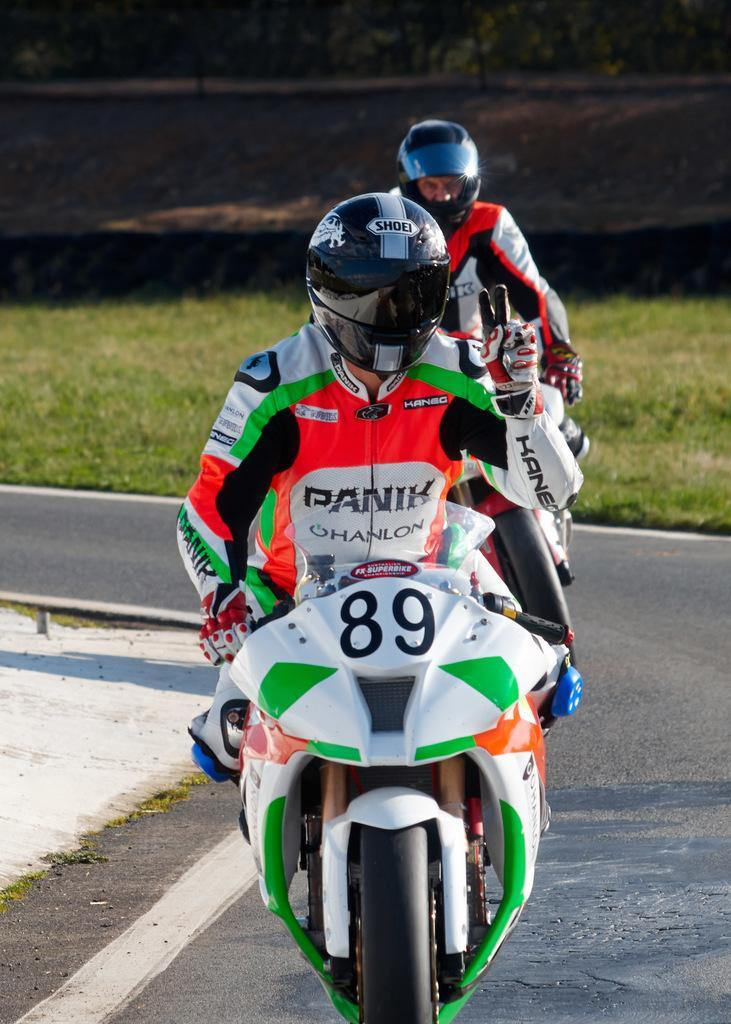helmet: (304, 190, 452, 376), (395, 117, 484, 232)
